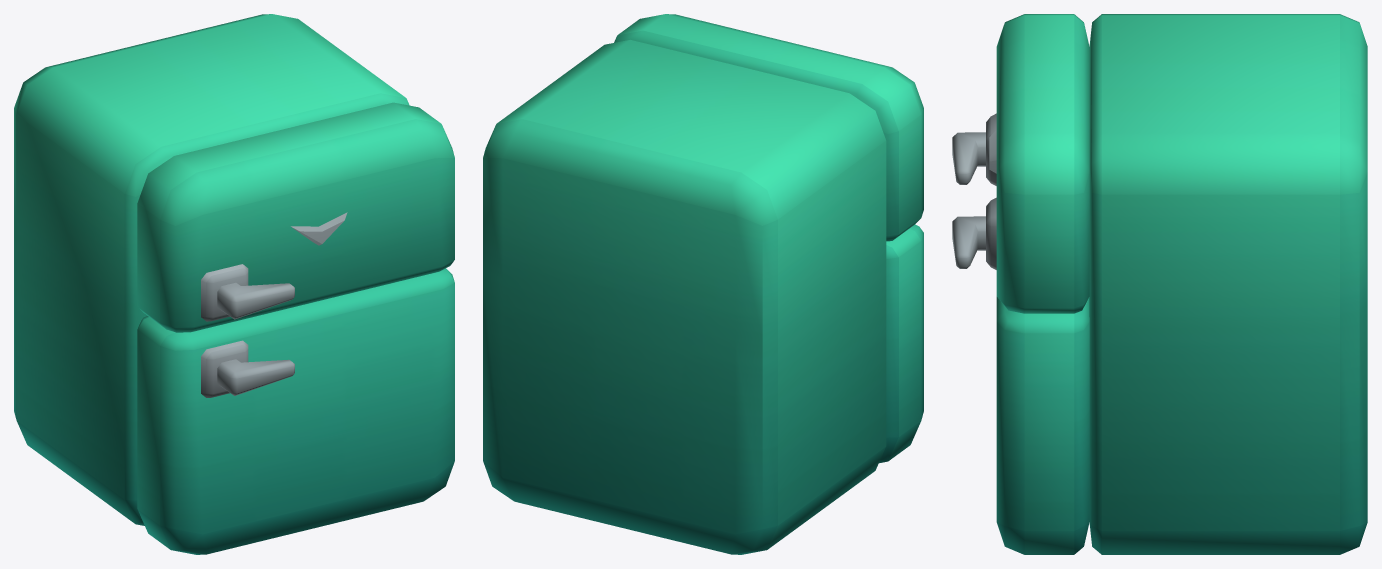
File: fridge.glb
3 renders of one model, left to right at view 1: azimuth 30°, elevation 25°; view 2: azimuth 150°, elevation 25°; view 3: azimuth 270°, elevation 25°, orthographic. The views are drawn at different scales.
Parts seen in each view (by area): view 1: Cube.616, fridge_A_door_bottom, fridge_A_door_top; view 2: Cube.616, fridge_A_door_top, fridge_A_door_bottom; view 3: Cube.616, fridge_A_door_top, fridge_A_door_bottom.
Boxes of the visible parts, bbox=[...] form: Cube.616: bbox=[14, 14, 409, 525]; fridge_A_door_bottom: bbox=[137, 268, 454, 554]; fridge_A_door_top: bbox=[137, 102, 454, 332]; Cube.616: bbox=[483, 39, 886, 554]; fridge_A_door_top: bbox=[614, 14, 923, 241]; fridge_A_door_bottom: bbox=[879, 224, 923, 463]; Cube.616: bbox=[1089, 14, 1367, 554]; fridge_A_door_top: bbox=[952, 14, 1089, 313]; fridge_A_door_bottom: bbox=[952, 197, 1089, 554].
Bounding box in the file's own units: 1.44 × 1.8 × 1.61.
Materials: 1 (1 with a texture image).
